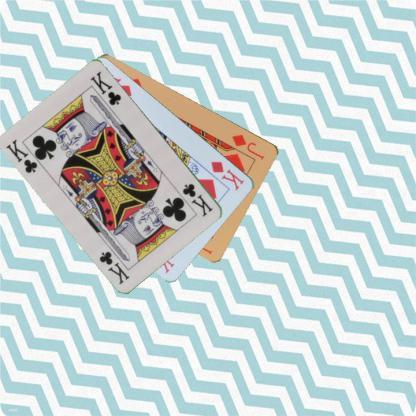Jd: (230, 131, 266, 161)
Kc: (4, 136, 39, 174), (180, 180, 214, 218)
Kd: (209, 158, 246, 192)
